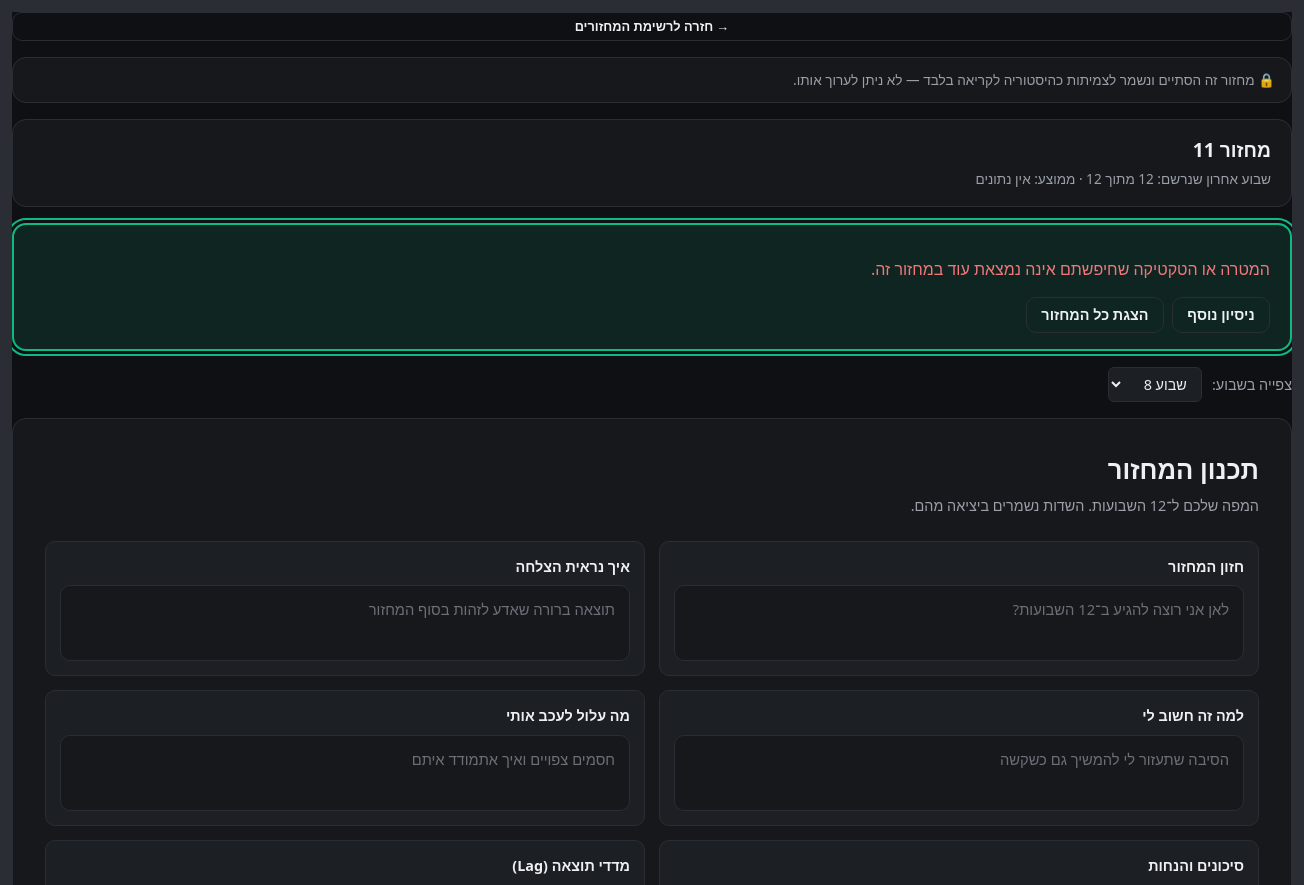
Test case: CycleHistoryTab archive navigation › shows missing nested result {"goalId":999} without substituting another goal/tactic
The image size is (1304, 885).
Expected: the message "המטרה או הטקטיקה שחיפשתם אינה נמצאת עוד במחזור זה." is shown, [871, 258, 1270, 280]
Click the button "הצגת כל המחזור" at (1095, 315), box [1026, 296, 1164, 333]
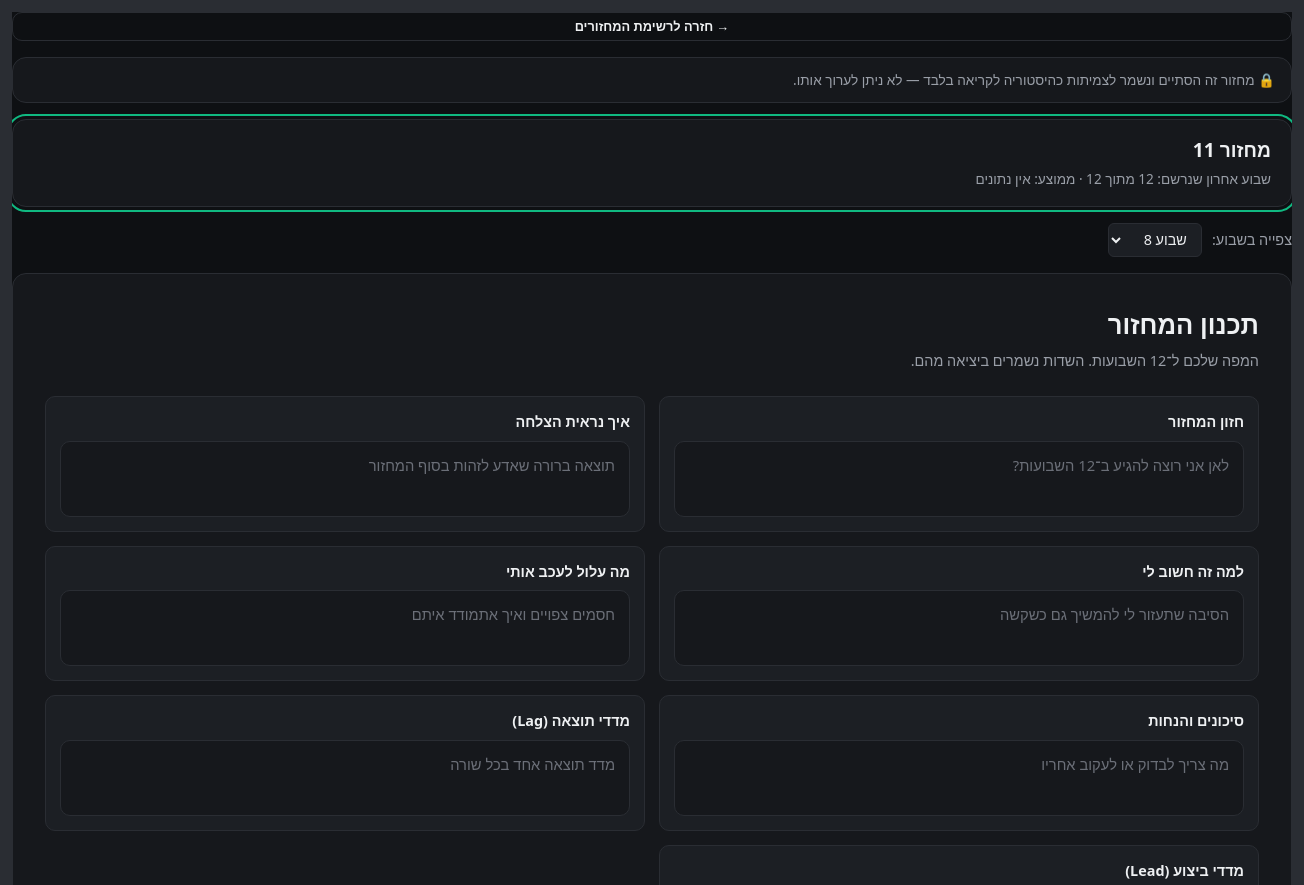
Expected: the heading "מחזור 11" is shown, [1193, 136, 1271, 163]
Result: the message "המטרה או הטקטיקה שחיפשתם אינה נמצאת עוד במחזור זה." is gone
